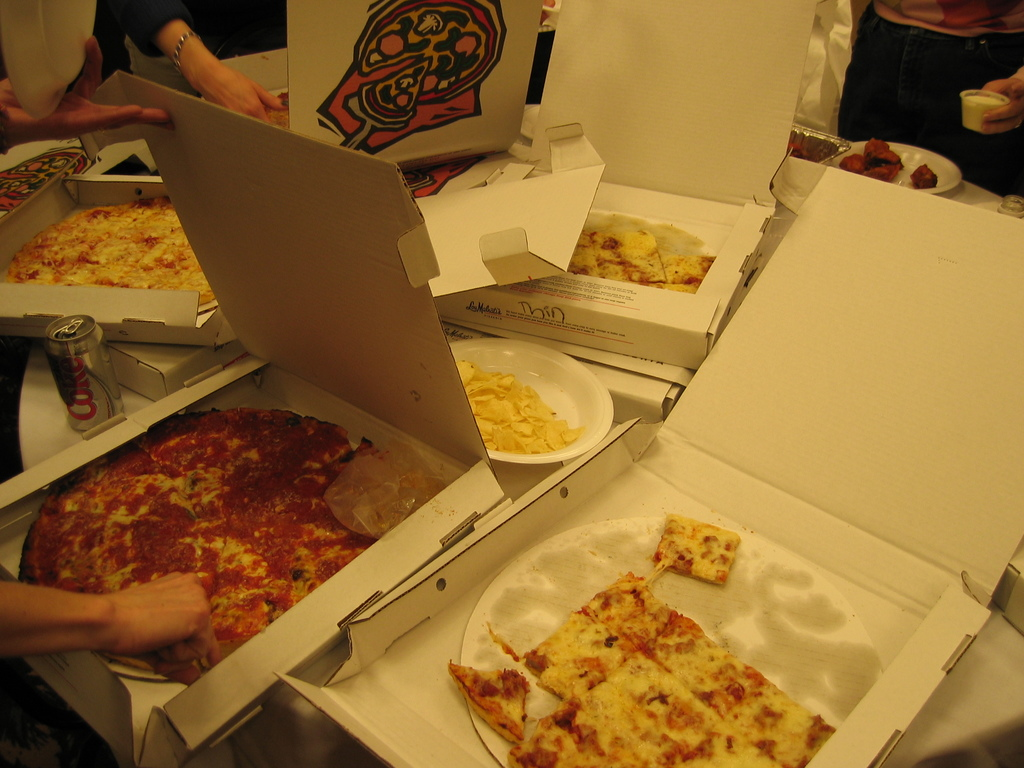Pizza: (37, 424, 350, 681), (446, 573, 845, 767), (2, 192, 223, 318), (359, 0, 510, 103), (566, 222, 726, 286), (344, 49, 430, 142), (656, 520, 731, 578)
